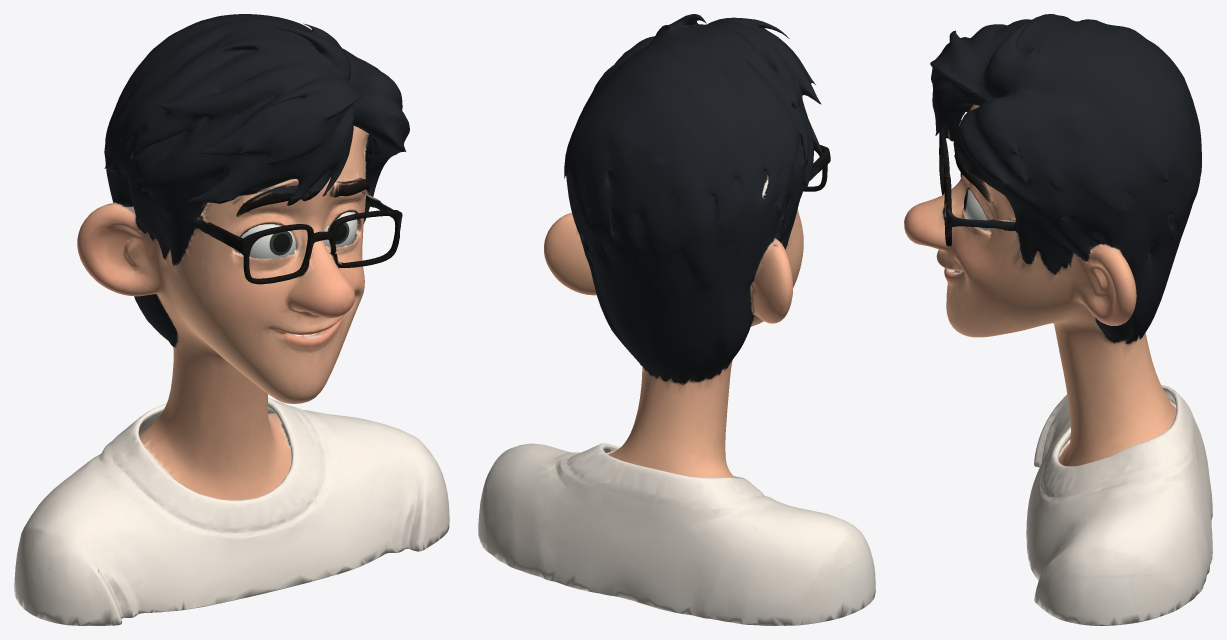
The model's file is baseline.glb.
3 renders of one model, left to right at view 1: azimuth 30°, elevation 25°; view 2: azimuth 150°, elevation 25°; view 3: azimuth 270°, elevation 25°, orthographic. The views are drawn at different scales.
Visible parts, largest first — view 1: character-shirt, character-head, character-hair, character-glasses, eye-left, eye-right; view 2: character-hair, character-shirt, character-head; view 3: character-hair, character-shirt, character-head, character-glasses, eye-right.
Part boxes in pixels (x1,y1,x2,y2): character-shirt: (14,398,449,625); character-head: (77,126,379,500); character-hair: (104,14,409,347); character-glasses: (228,210,401,284); eye-left: (234,224,295,258); eye-right: (324,212,357,247); character-hair: (564,14,822,383); character-shirt: (478,443,875,625); character-head: (544,159,821,477); character-hair: (930,14,1201,343); character-shirt: (1026,385,1212,625); character-head: (904,90,1176,466); character-glasses: (939,128,951,246); eye-right: (964,189,988,230).
Bounding box in the file's own units: 1.47 × 1.9 × 1.03.
Materials: 5 (1 with a texture image).
